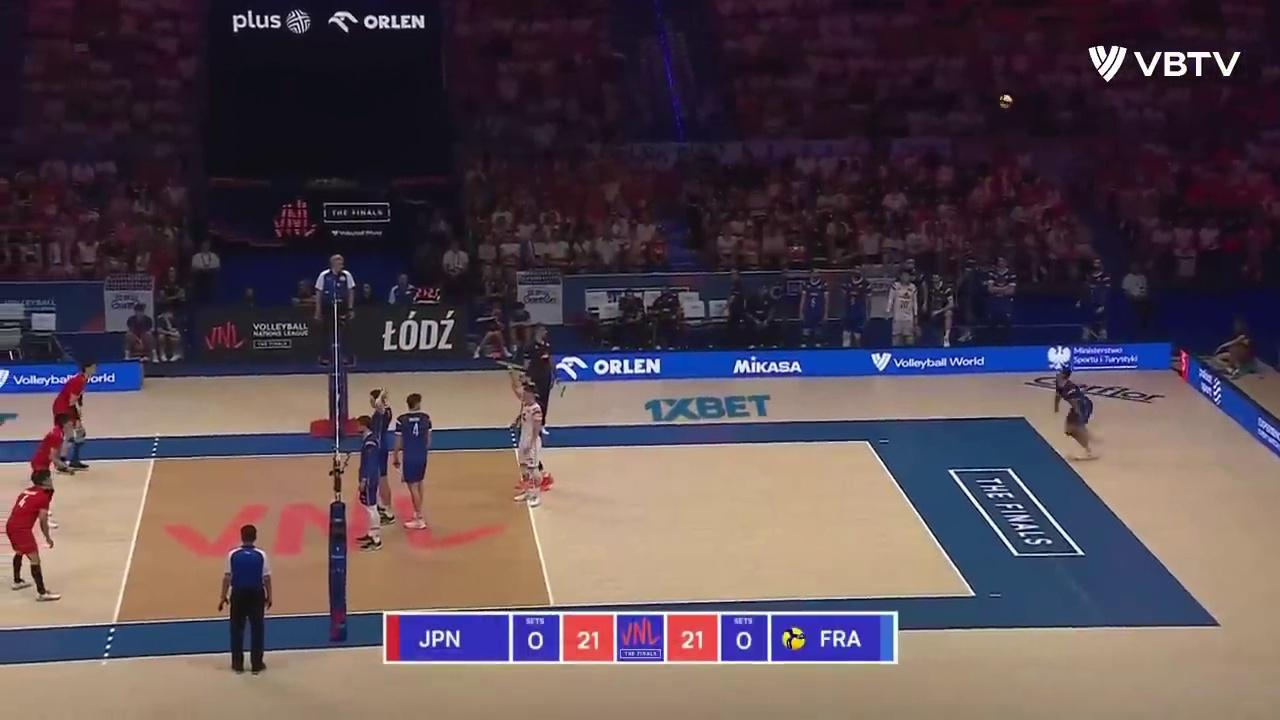ball: (998, 95, 1012, 108)
